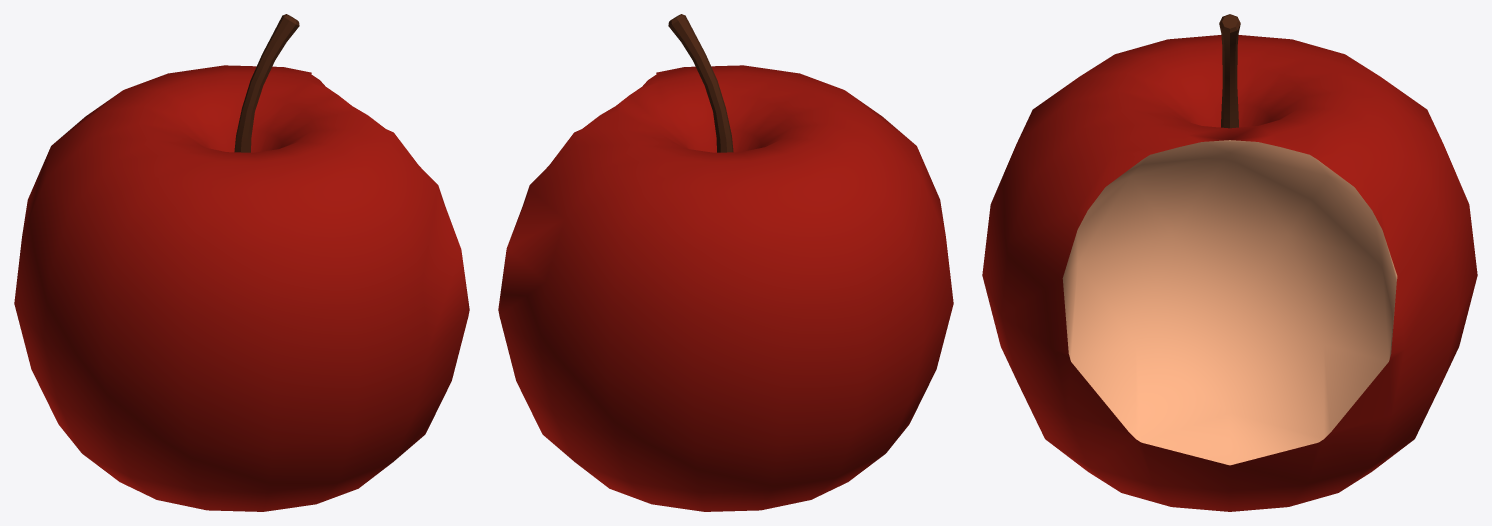
File: eatenApple.fbx
The picture shows the model from 3 angles, left to right: view 1: azimuth 30°, elevation 25°; view 2: azimuth 150°, elevation 25°; view 3: azimuth 270°, elevation 25°; orthographic projection. The views are drawn at different scales.
Visible parts, largest first — view 1: eatenApple; view 2: eatenApple; view 3: eatenApple.
Part boxes in pixels (bbox=[...]): eatenApple: bbox=[14, 14, 469, 511]; eatenApple: bbox=[498, 14, 953, 511]; eatenApple: bbox=[982, 14, 1477, 511].
Bounding box in the file's own units: 201 × 225 × 214.
